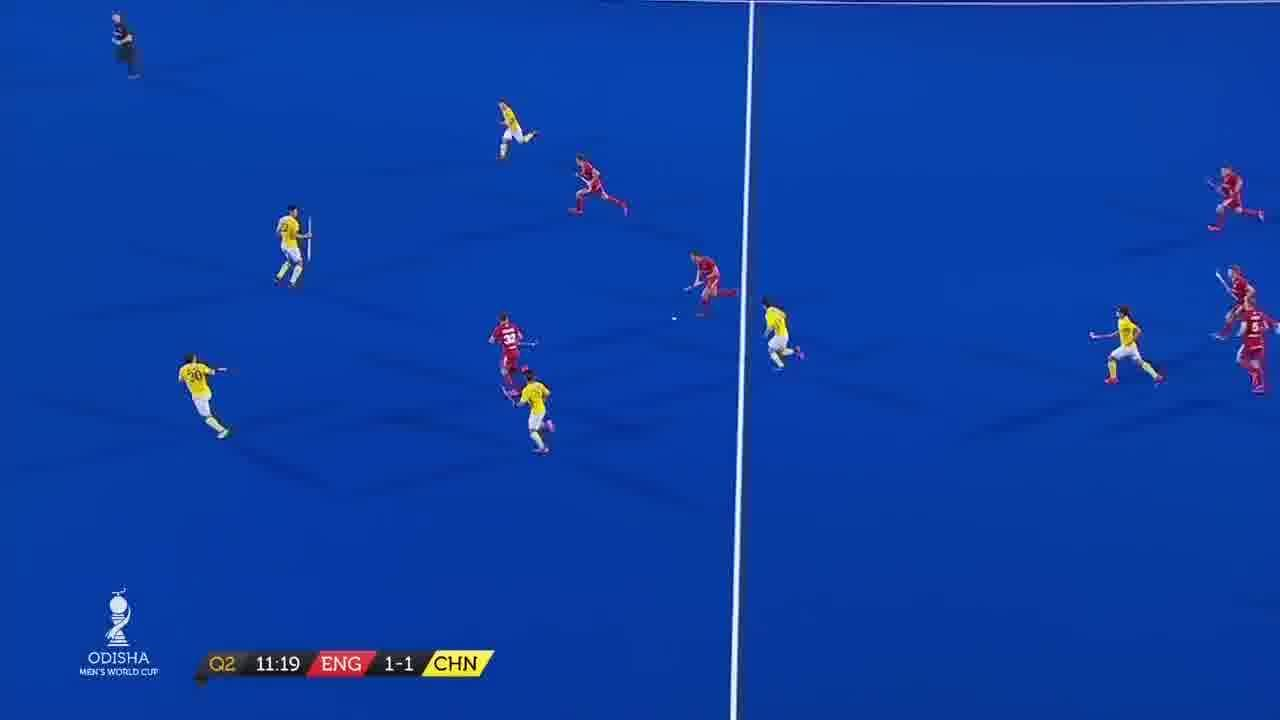ball: (671, 314, 678, 325)
